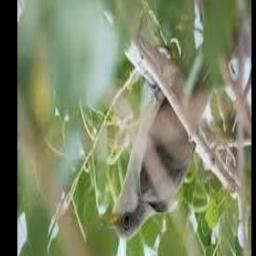Cuckoo: (100, 41, 212, 240)
